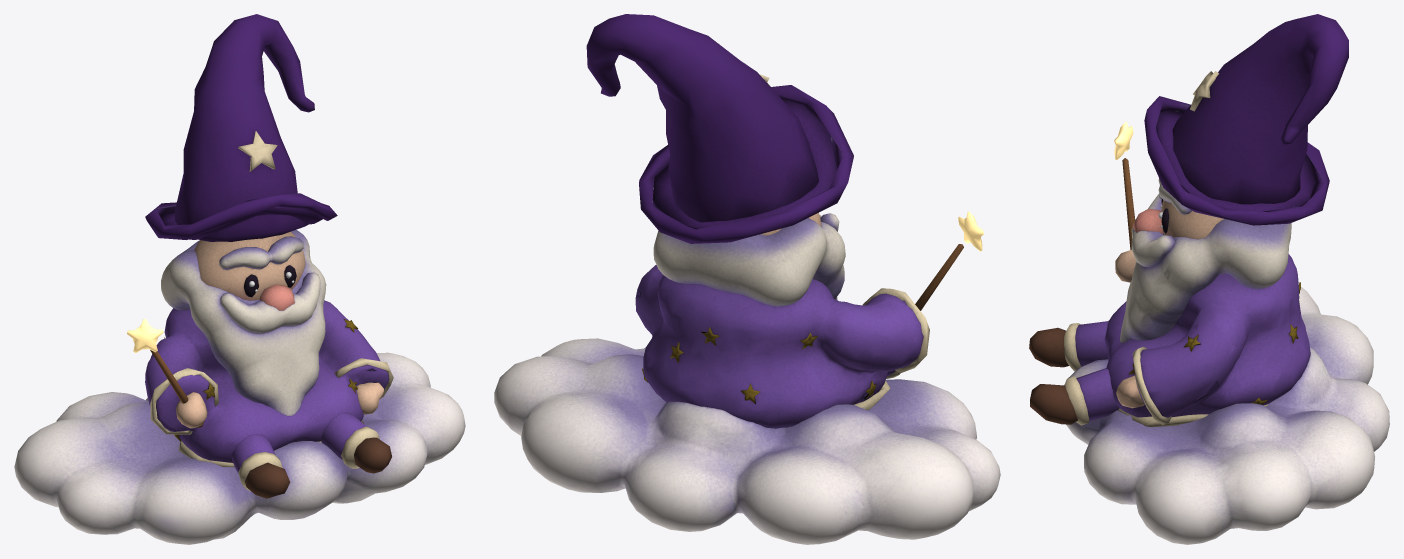
File: wizard_cloud.glb
3 renders of one model, left to right at view 1: azimuth 30°, elevation 25°; view 2: azimuth 150°, elevation 25°; view 3: azimuth 270°, elevation 25°, orthographic. The views are drawn at different scales.
Parts seen in each view (by area): view 1: wizard, cloud, wand_star; view 2: wizard, cloud; view 3: wizard, cloud, wand_star.
Part boxes in pixels (<box>): wizard: <box>145,14,393,498</box>; cloud: <box>14,352,465,544</box>; wand_star: <box>127,319,163,352</box>; wizard: <box>586,14,963,428</box>; cloud: <box>494,338,1000,544</box>; wizard: <box>1029,14,1348,427</box>; cloud: <box>1066,287,1389,544</box>; wand_star: <box>1114,121,1133,160</box>.
Size of the model in its own units: 1.57 by 1.6 by 1.11.
Materials: 2 (1 with a texture image).
